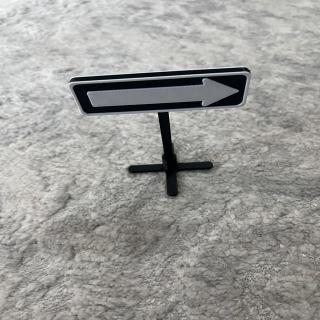sign_oneway_right: (68, 69, 258, 119)
